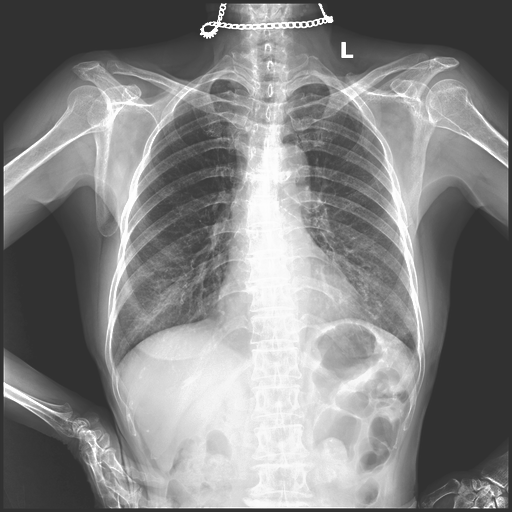Calcification: (224, 79, 243, 89)
Consolidation: (265, 143, 313, 195)
